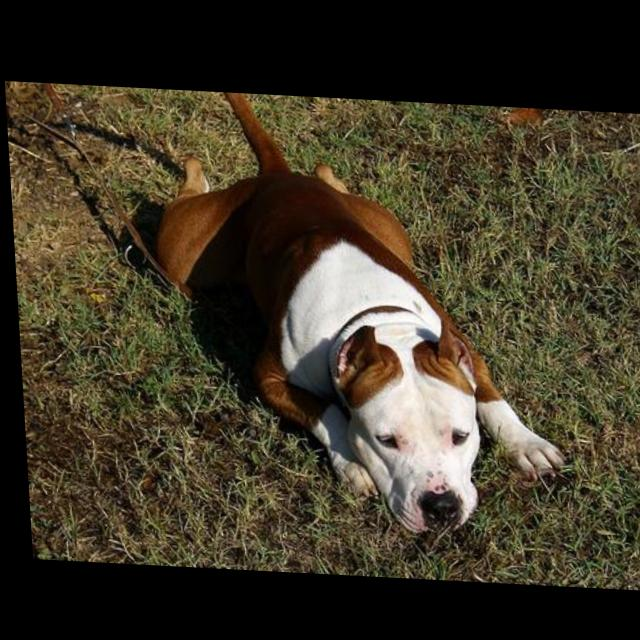amstaff: (147, 88, 566, 538)
